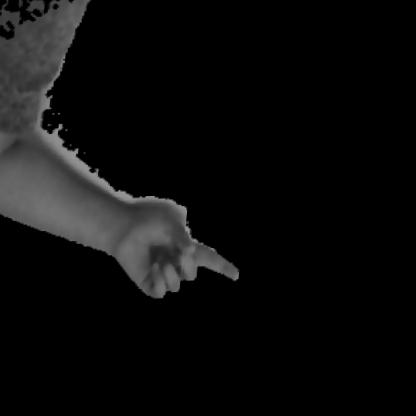one: (0, 131, 303, 375)
